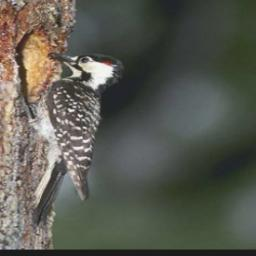Woodpecker: (13, 50, 130, 228)
